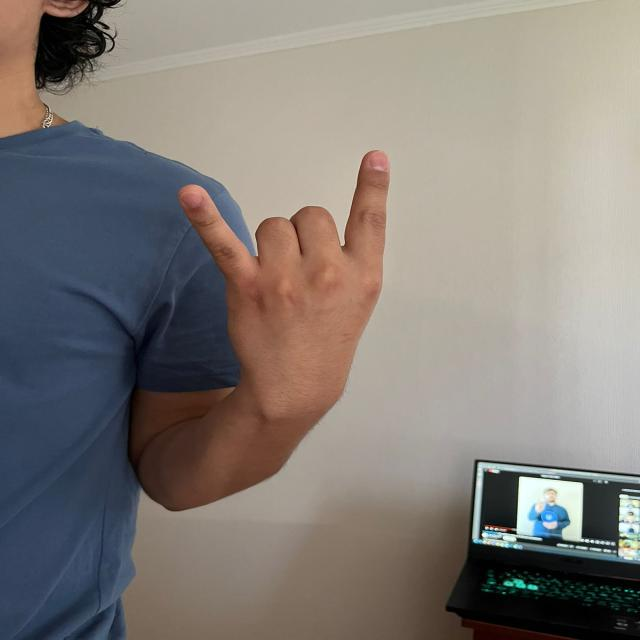U: (175, 142, 397, 394)
